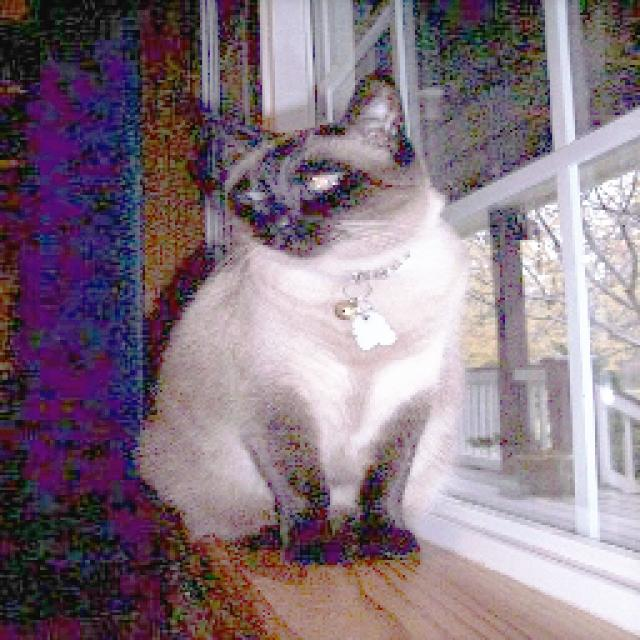cat: (143, 94, 457, 570)
